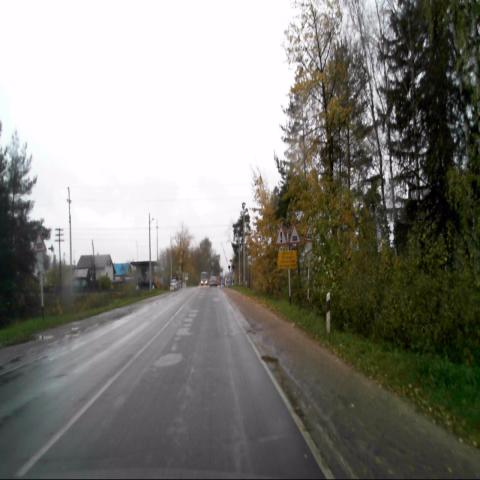1_1: (288, 222, 302, 244), (303, 222, 316, 243)
1_33: (274, 224, 288, 246)
